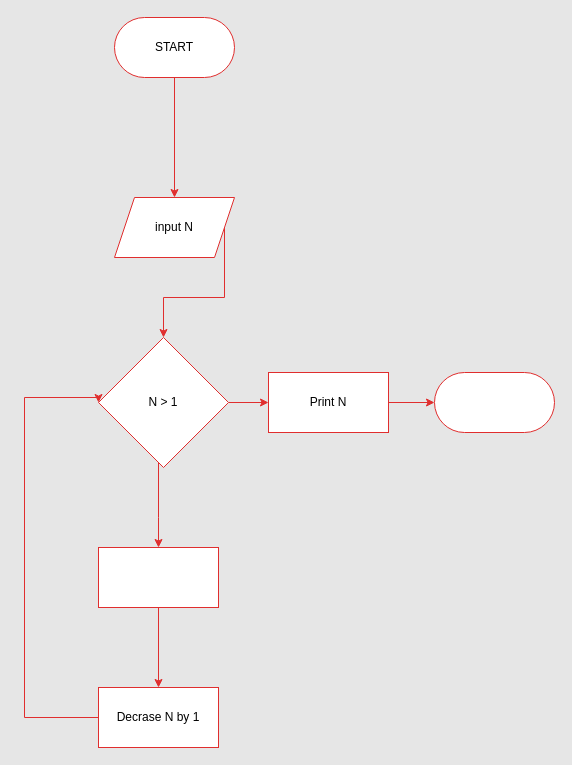
The diagram is 572 pixels wide and 765 high, and some of its shapes have lost their labels. The shapes that lost their labels are listed below. From the top down, each one's box as (x1, y1, x2, y2) in pixels, then its label:
(434, 372, 554, 432): END
(98, 546, 218, 608): Print '_'
